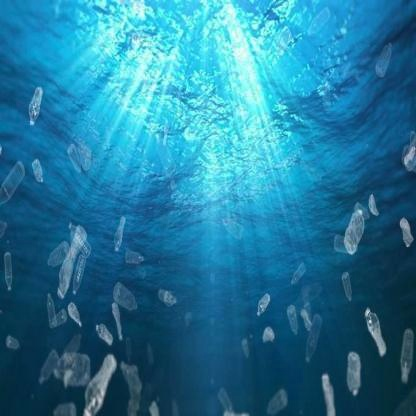pbottle: (81, 352, 119, 416), (119, 352, 149, 416), (361, 305, 395, 359), (56, 342, 92, 384), (151, 133, 179, 182), (2, 157, 26, 212), (344, 346, 367, 400), (340, 212, 366, 259), (398, 326, 416, 386), (263, 380, 293, 416), (304, 8, 333, 42), (112, 277, 140, 312), (398, 127, 416, 181), (65, 228, 95, 260), (318, 370, 338, 416), (59, 142, 90, 171), (116, 28, 152, 50), (35, 348, 57, 383), (306, 309, 321, 357), (219, 214, 245, 239), (43, 243, 70, 267), (43, 290, 57, 336), (394, 214, 414, 246), (330, 237, 352, 265), (114, 213, 130, 250), (155, 283, 179, 307), (376, 37, 390, 78), (110, 298, 123, 342), (214, 384, 234, 412), (66, 305, 89, 329), (4, 244, 14, 299), (123, 244, 145, 269), (50, 398, 80, 416), (238, 335, 257, 360), (255, 284, 270, 315), (286, 301, 299, 333), (26, 85, 39, 117), (289, 266, 309, 284), (262, 325, 278, 347), (77, 259, 89, 288), (338, 273, 352, 297), (31, 159, 44, 184), (142, 341, 156, 363), (298, 297, 308, 325), (54, 308, 68, 327), (6, 335, 17, 357)
